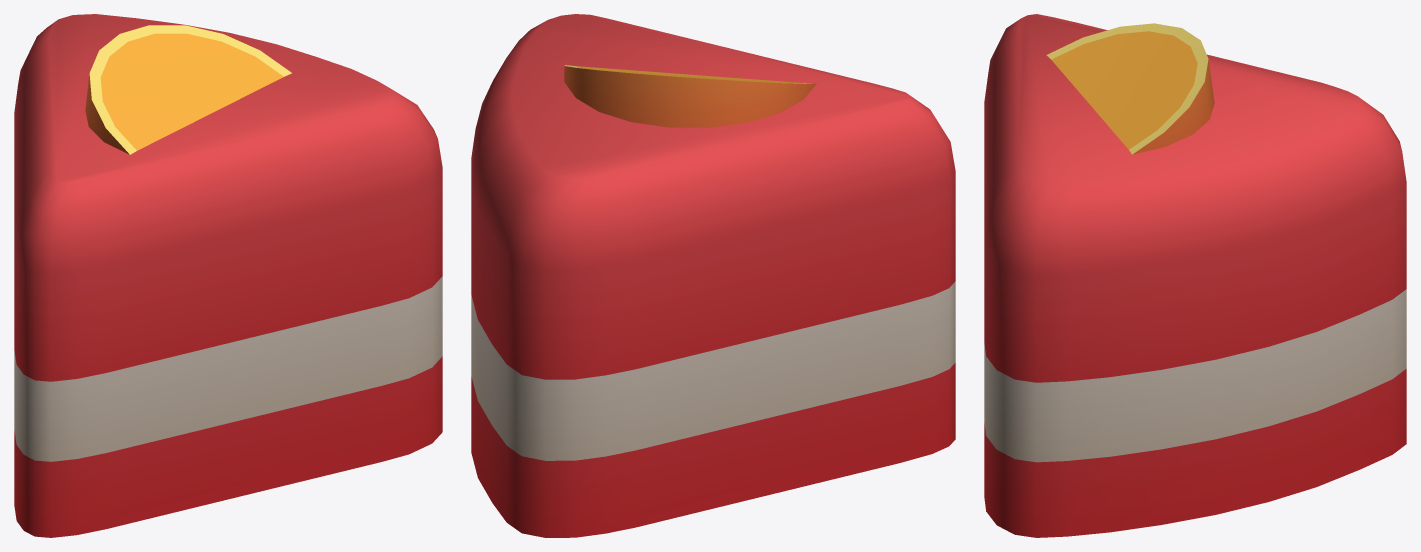
Rendered from cake09_slice.FBX.
The picture shows the model from 3 angles, left to right: view 1: azimuth 30°, elevation 25°; view 2: azimuth 150°, elevation 25°; view 3: azimuth 270°, elevation 25°; orthographic projection.
Visible parts, largest first — view 1: cake09_slice; view 2: cake09_slice; view 3: cake09_slice.
Boxes of the visible parts, bbox=[...] form: cake09_slice: bbox=[14, 14, 442, 537]; cake09_slice: bbox=[471, 14, 955, 537]; cake09_slice: bbox=[984, 14, 1406, 537].
Size of the model in its own units: 0.00904 by 0.0079 by 0.00788.
